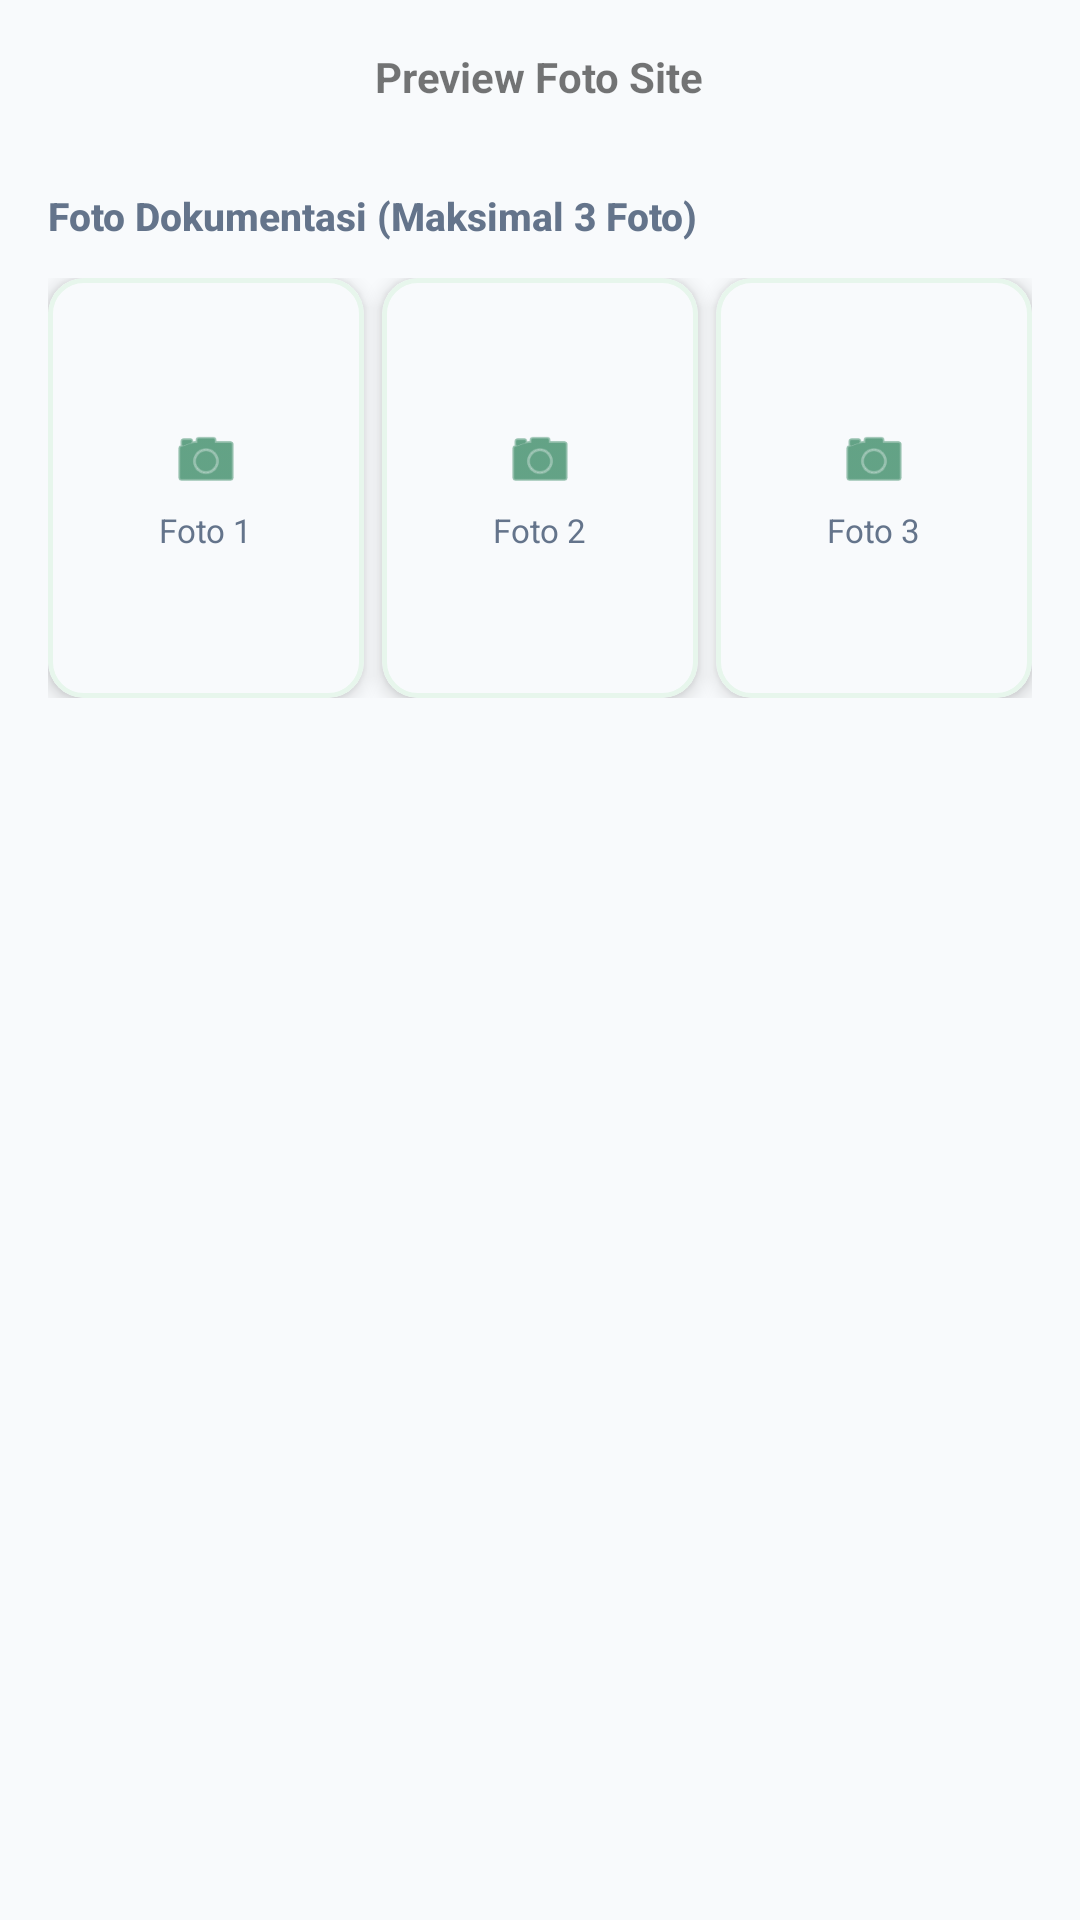

Where icons sit on this 1080w x 1920h app screen, as (x1, y1, x2, y2):
camera: (178, 437, 234, 481), (512, 437, 568, 481), (846, 437, 902, 481)
